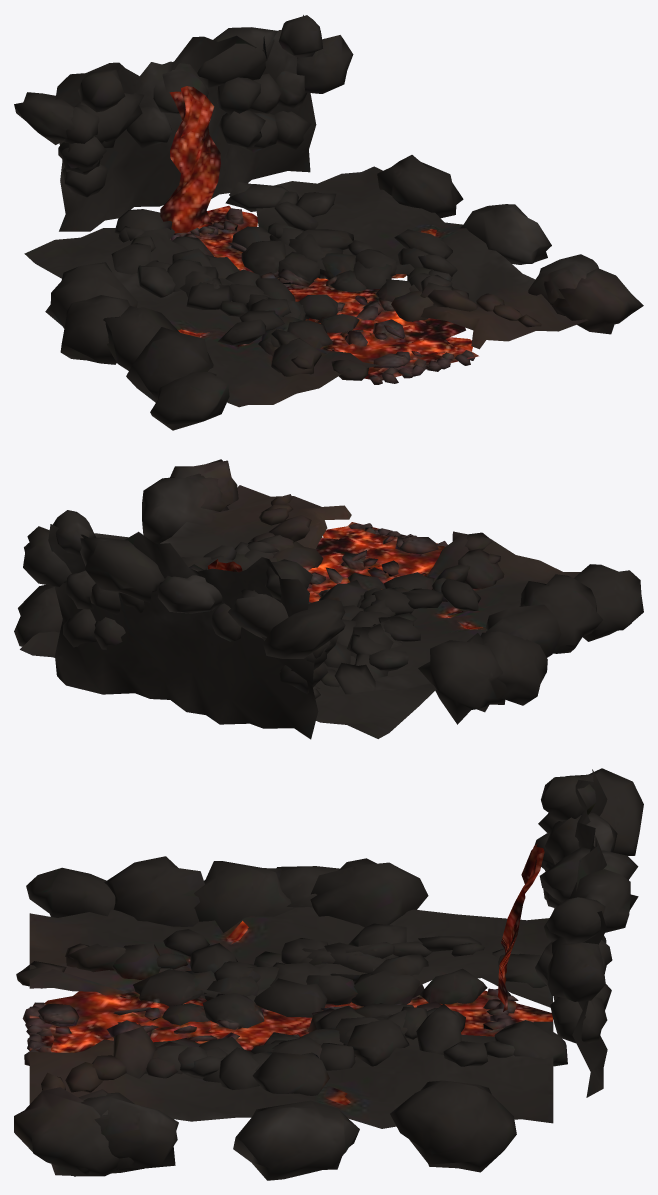
Rendered from b4lod_magma_bank_p1.glb.
3 views of the same model, one above another, from view 1: azimuth 30°, elevation 25°; view 2: azimuth 150°, elevation 25°; view 3: azimuth 270°, elevation 25° (orthographic). The views are drawn at different scales.
Parts seen in each view (by area): view 1: b4lod_magma_bank_p1; view 2: b4lod_magma_bank_p1; view 3: b4lod_magma_bank_p1.
Part boxes in pixels (left/top/right/bottom): b4lod_magma_bank_p1: left=14, top=15, right=643, bottom=430; b4lod_magma_bank_p1: left=14, top=459, right=643, bottom=739; b4lod_magma_bank_p1: left=14, top=768, right=643, bottom=1180.
Size of the model in its own units: 8.47 by 3.28 by 8.06.
1 material, 1 textured.
